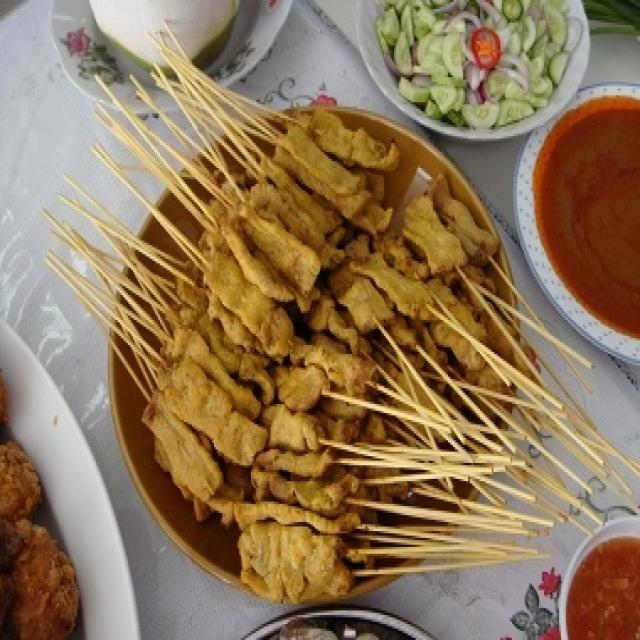牛肉菜式: (40, 21, 615, 610)
